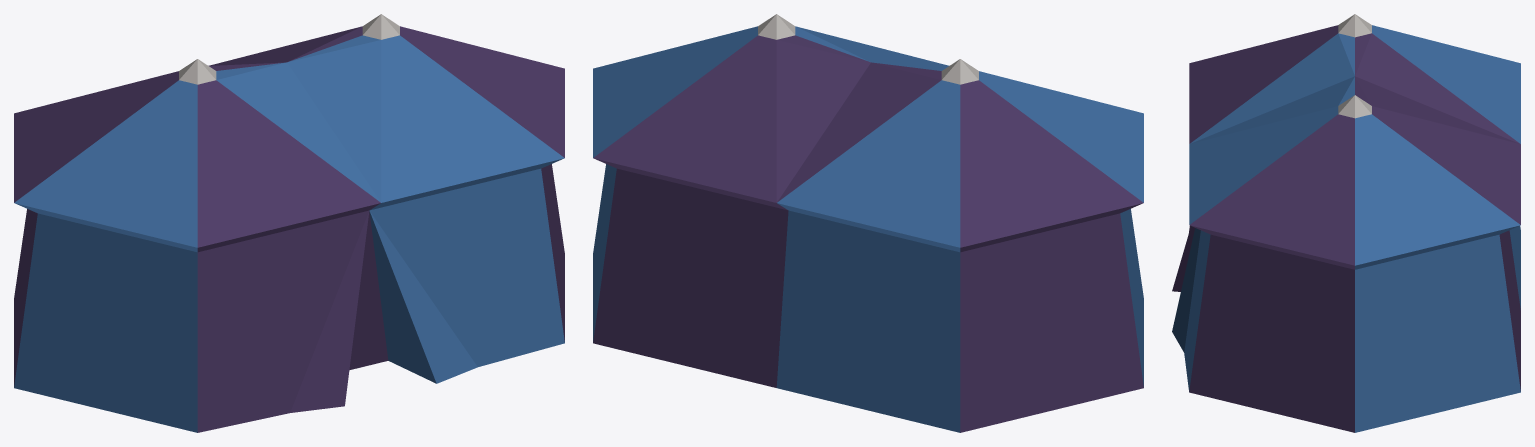
Rendered from Tent_Tiny.fbx.
3 renders of one model, left to right at view 1: azimuth 30°, elevation 25°; view 2: azimuth 150°, elevation 25°; view 3: azimuth 270°, elevation 25°, orthographic. The views are drawn at different scales.
Visible parts, largest first — view 1: SM_Bld_Knights_Tent_01; view 2: SM_Bld_Knights_Tent_01; view 3: SM_Bld_Knights_Tent_01.
Boxes of the visible parts, x1,y1,x2,y2 form: SM_Bld_Knights_Tent_01: (14,14,564,432); SM_Bld_Knights_Tent_01: (593,14,1143,432); SM_Bld_Knights_Tent_01: (1172,14,1520,432).
Bounding box in the file's own units: 169 × 83.53 × 103.
